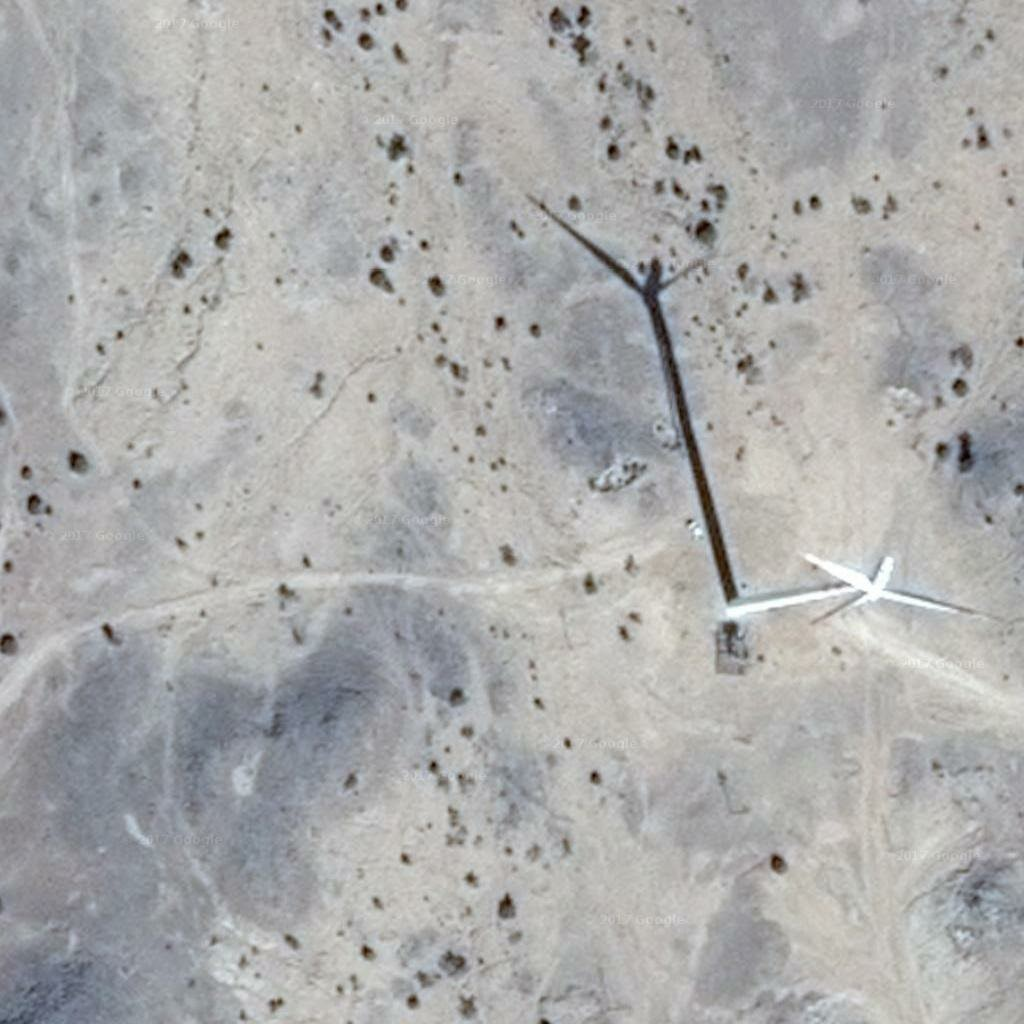Windmill: (519, 188, 765, 592)
